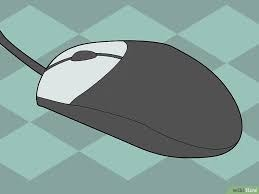mouse: (29, 37, 257, 160)
